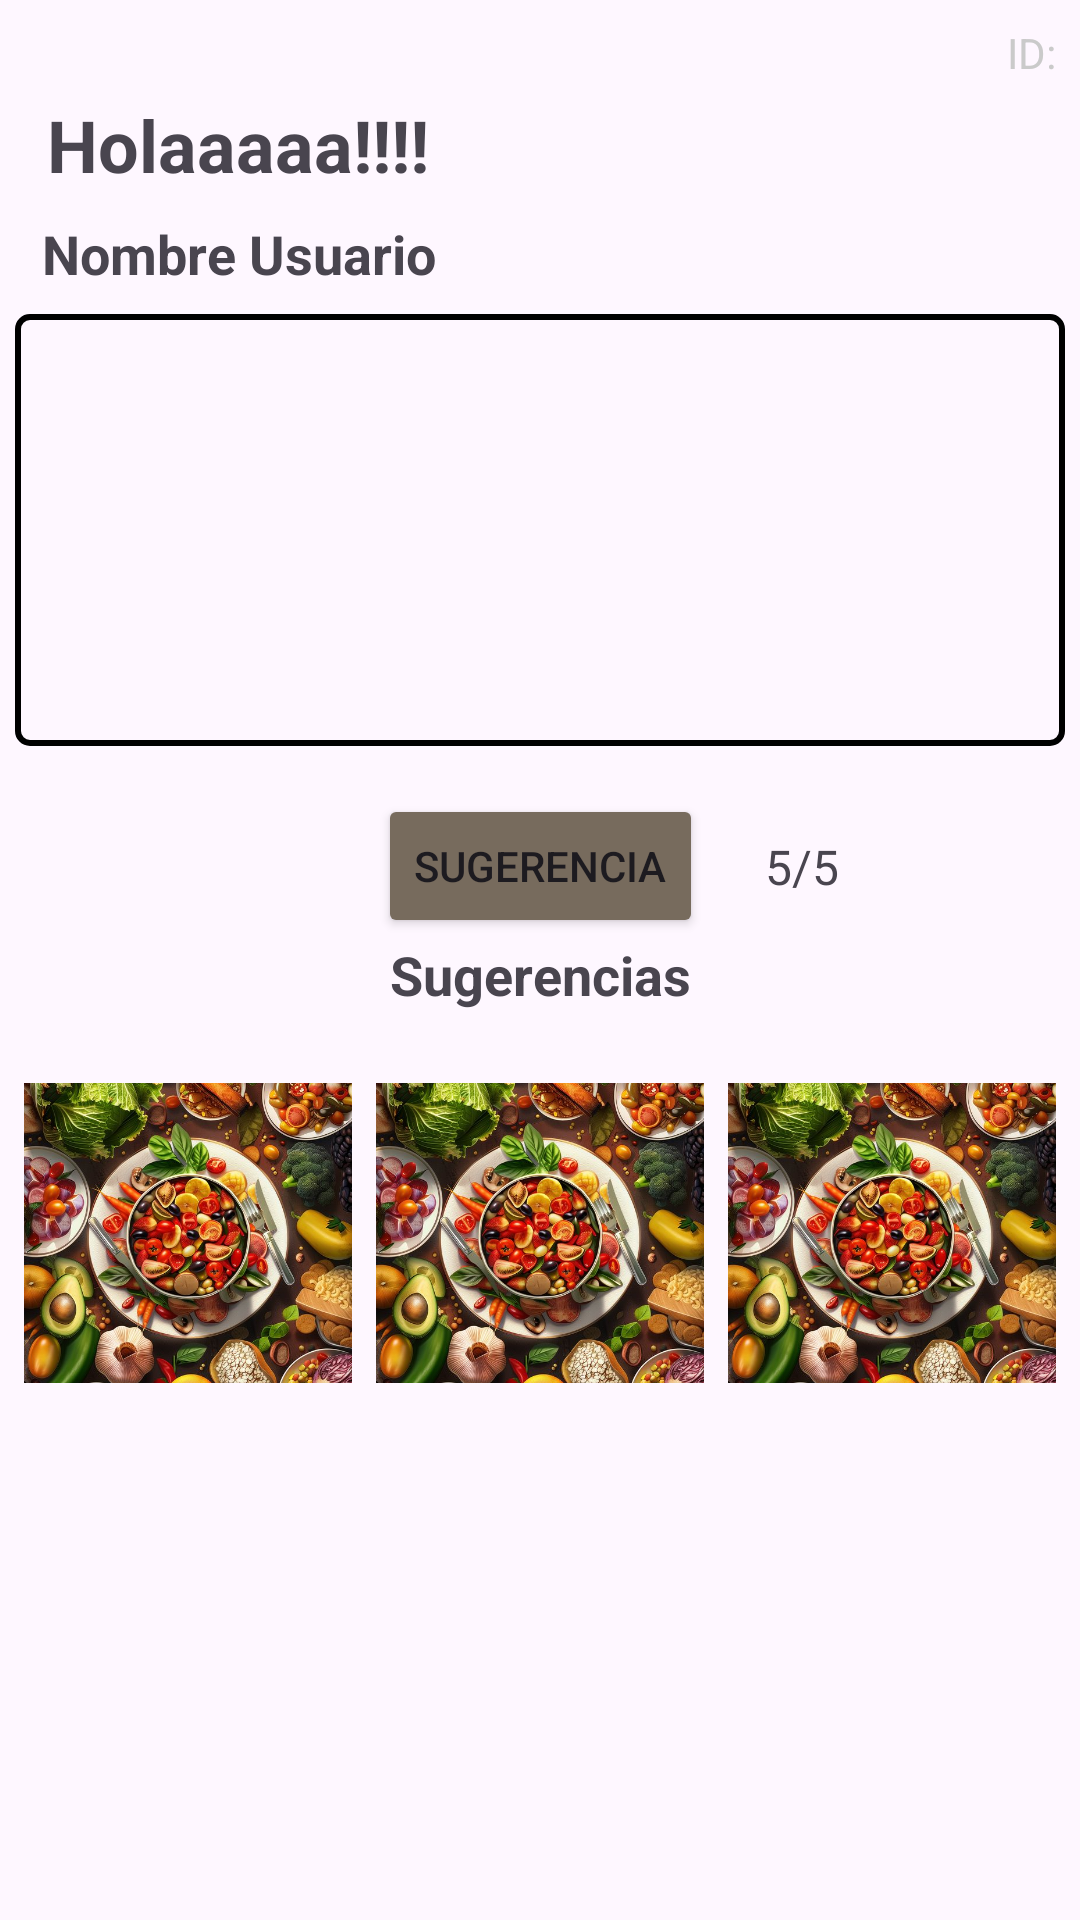

Screen size 1080px x 1920px. Icon name, then its box in pixels as Rect(x1, y1, x2, y2):
fondoia: Rect(24, 1083, 352, 1383), Rect(376, 1083, 704, 1383), Rect(728, 1083, 1056, 1383)
